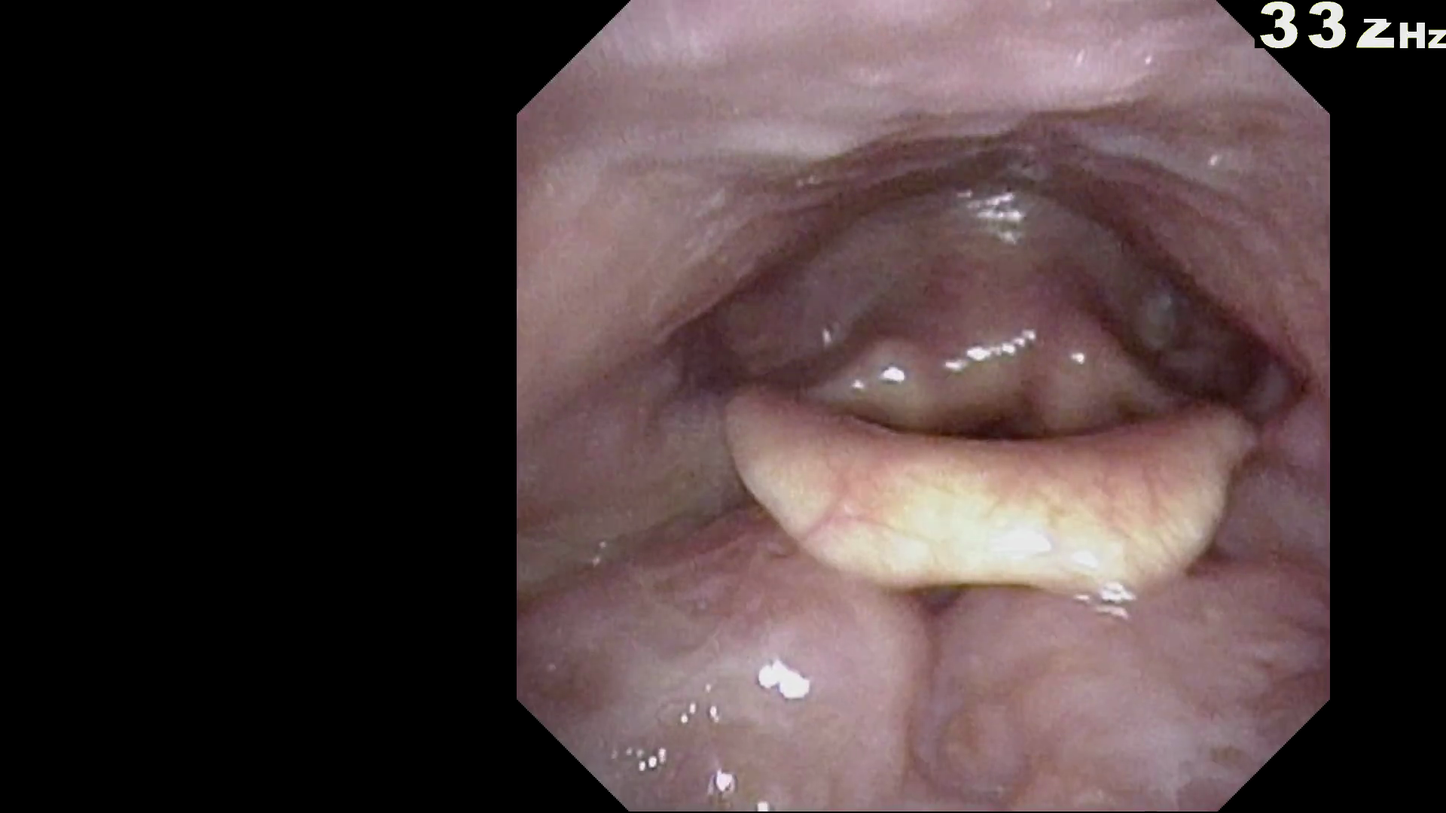epiglottis: (699, 372, 1301, 611)
trachea: (943, 350, 1090, 504)
